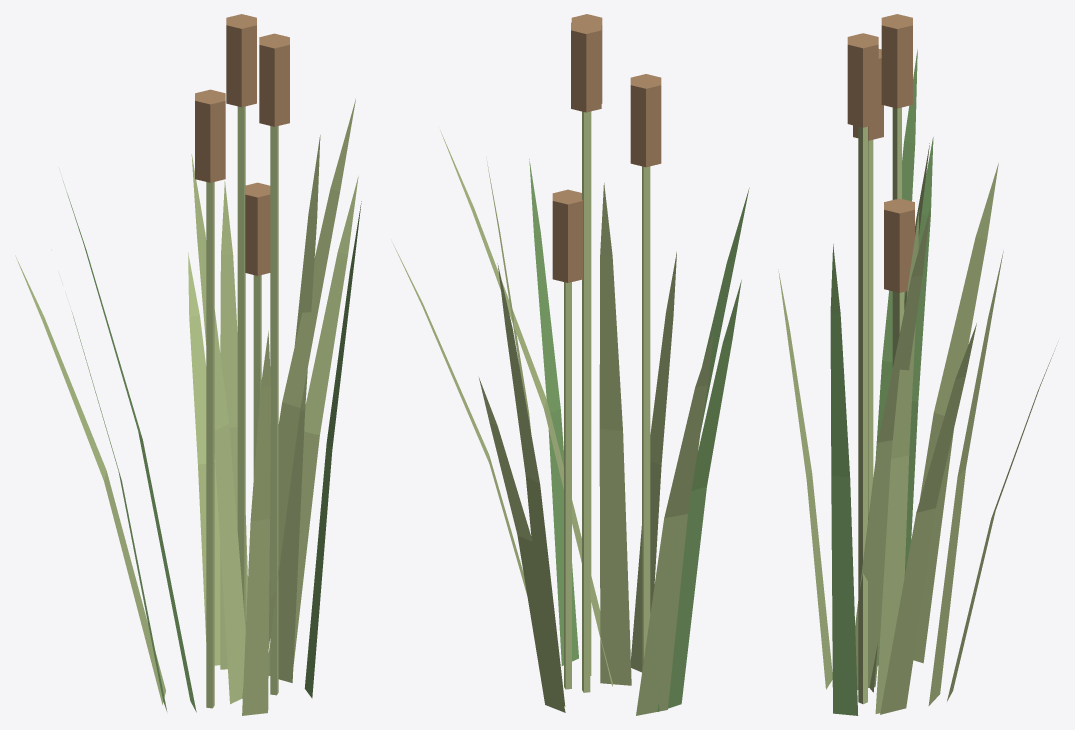
The model's file is Decor_Reeds.fbx.
The picture shows the model from 3 angles, left to right: view 1: azimuth 30°, elevation 25°; view 2: azimuth 150°, elevation 25°; view 3: azimuth 270°, elevation 25°; orthographic projection.
Visible parts, largest first — view 1: Decor_Reeds; view 2: Decor_Reeds; view 3: Decor_Reeds.
Part boxes in pixels (<box>): Decor_Reeds: <box>15,14,361,715</box>; Decor_Reeds: <box>393,14,749,715</box>; Decor_Reeds: <box>778,14,1056,715</box>.
Bounding box in the file's own units: 0.9803 × 1.86 × 0.7093.
